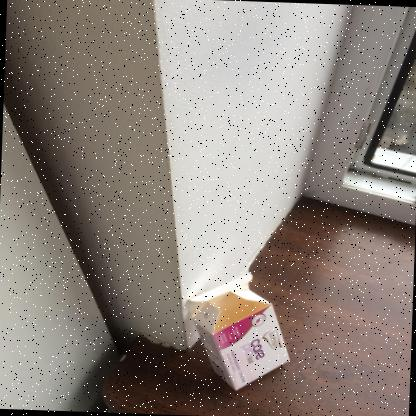Other carton: (189, 272, 290, 391)
